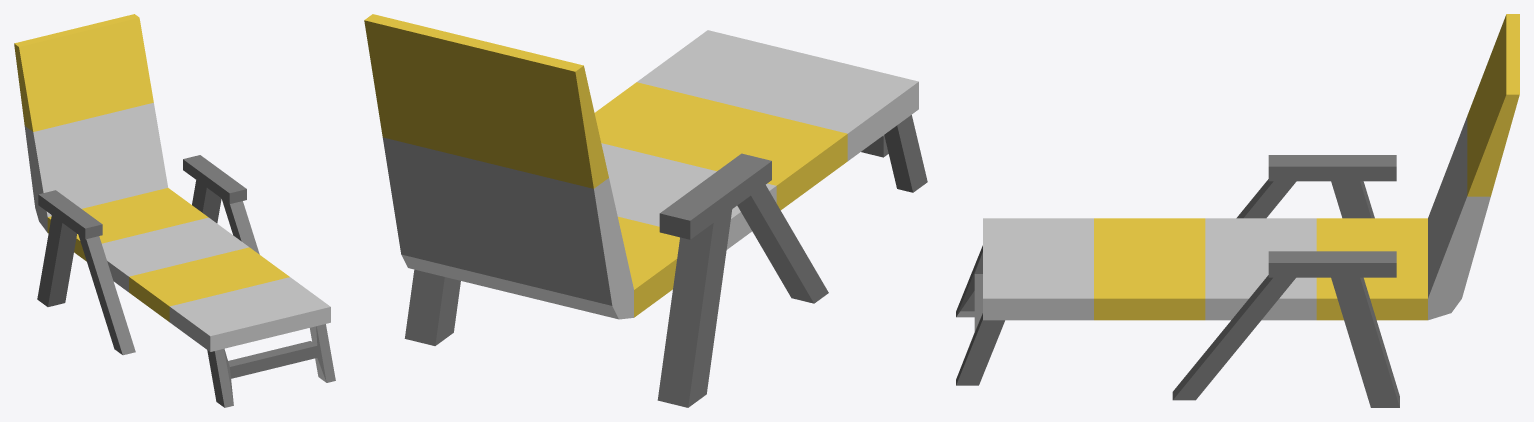
Rendered from Espreguisadeira1.fbx.
3 views of the same model, side by side, from view 1: azimuth 30°, elevation 25°; view 2: azimuth 150°, elevation 25°; view 3: azimuth 270°, elevation 25° (orthographic). The views are drawn at different scales.
Parts seen in each view (by area): view 1: Espreguisadeira1; view 2: Espreguisadeira1; view 3: Espreguisadeira1.
Boxes of the visible parts, x1,y1,x2,y2 form: Espreguisadeira1: [14, 14, 335, 407]; Espreguisadeira1: [364, 14, 927, 407]; Espreguisadeira1: [956, 14, 1519, 407].
Size of the model in its own units: 315 by 407 by 694.
